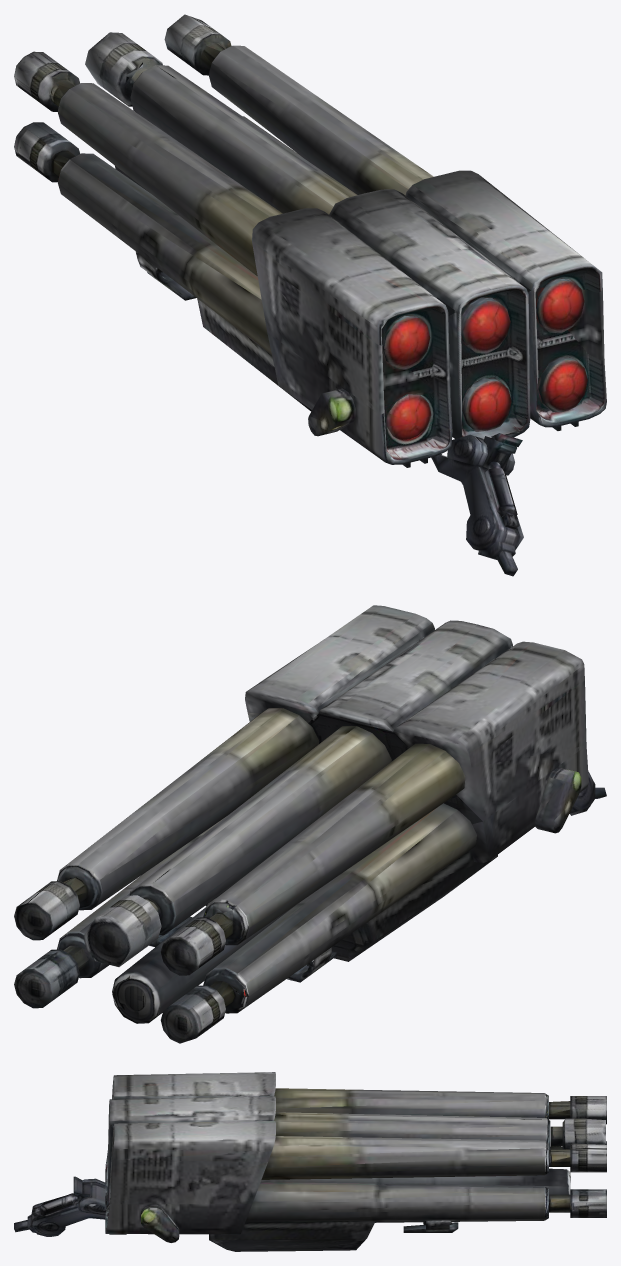
The picture shows the model from 3 angles, top to bottom: view 1: azimuth 30°, elevation 25°; view 2: azimuth 150°, elevation 25°; view 3: azimuth 270°, elevation 25°; orthographic projection. The views are drawn at different scales.
Visible parts, largest first — view 1: gun; view 2: gun; view 3: gun.
Boxes of the visible parts, x1=… form: gun: x1=14, y1=14, x2=606, y2=576; gun: x1=14, y1=605, x2=606, y2=1043; gun: x1=14, y1=1072, x2=606, y2=1251.
Bounding box in the file's own units: 0.4614 × 0.3795 × 1.4.
Materials: 1 (1 with a texture image).
